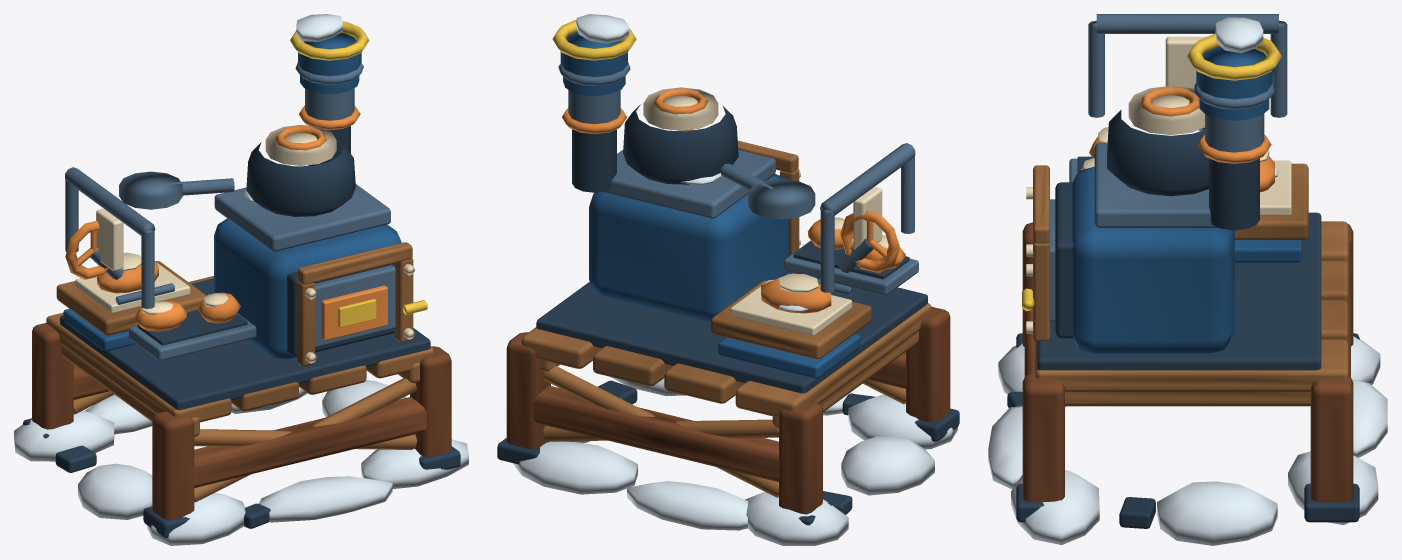
File: cooker_processor.glb
3 renders of one model, left to right at view 1: azimuth 30°, elevation 25°; view 2: azimuth 150°, elevation 25°; view 3: azimuth 270°, elevation 25°, orthographic. The views are drawn at different scales.
Visible parts, largest first — view 1: cooker_processor; view 2: cooker_processor; view 3: cooker_processor.
Boxes of the visible parts, bbox=[...] form: cooker_processor: bbox=[14, 14, 468, 545]; cooker_processor: bbox=[497, 14, 959, 545]; cooker_processor: bbox=[988, 14, 1387, 545].
Bounding box in the file's own units: 2.24 × 2.54 × 1.88.
